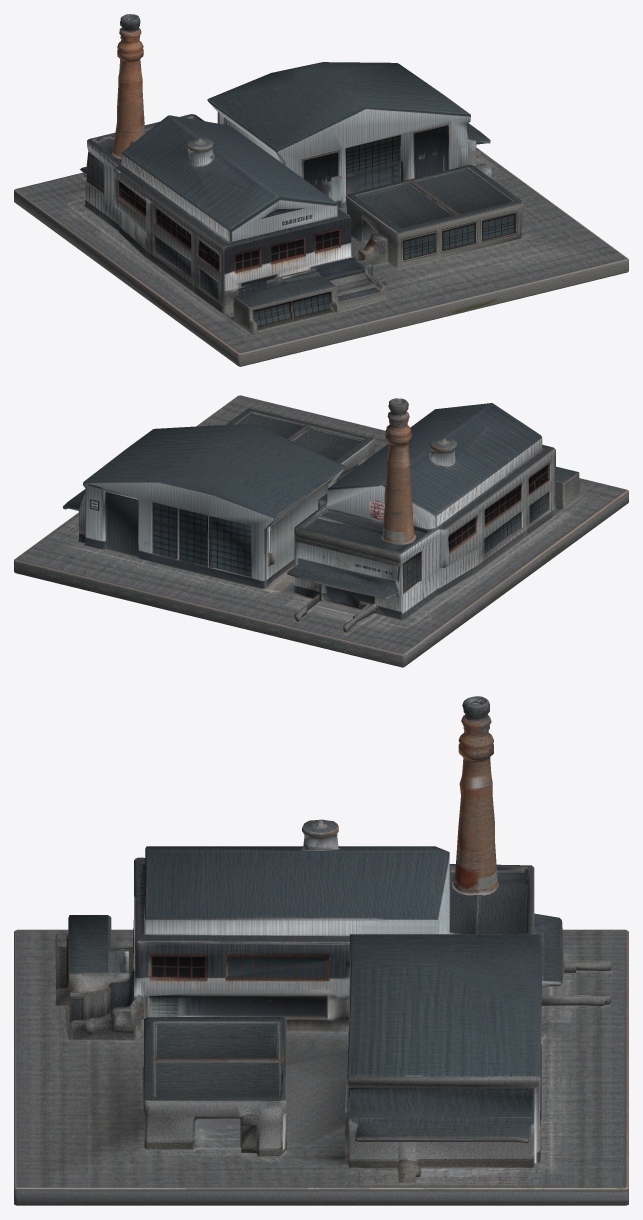
File: factory.glb
3 renders of one model, top to bottom at view 1: azimuth 30°, elevation 25°; view 2: azimuth 150°, elevation 25°; view 3: azimuth 270°, elevation 25°, orthographic. The views are drawn at different scales.
Size of the model in its own units: 1.91 by 0.9824 by 1.91.
1 material, 1 textured.
